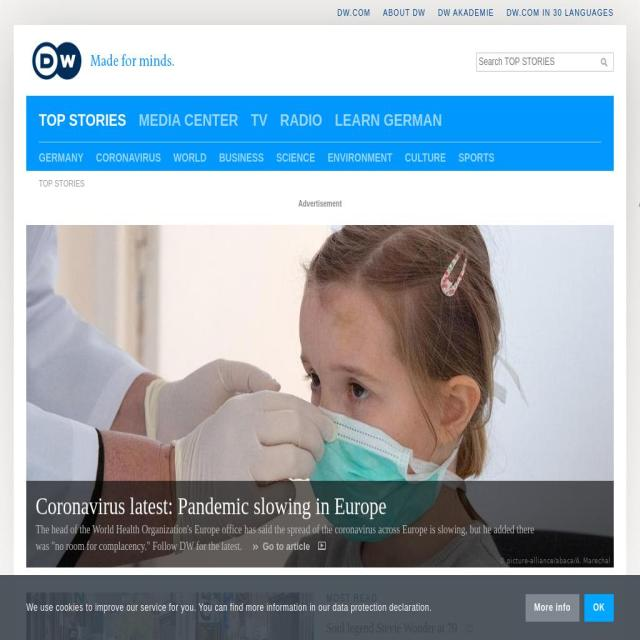button: (36, 493, 604, 555), (27, 25, 202, 96), (328, 104, 449, 142), (133, 104, 245, 142), (33, 104, 133, 142), (95, 142, 173, 172), (327, 142, 405, 172), (273, 104, 329, 142), (39, 142, 96, 172), (219, 142, 276, 172), (404, 142, 459, 172), (525, 593, 579, 622), (276, 142, 328, 172), (458, 142, 508, 172), (173, 142, 219, 172), (244, 104, 274, 142), (584, 593, 614, 622)
field: (476, 52, 614, 72)
heading: (35, 494, 548, 518), (326, 593, 626, 604), (326, 621, 460, 635)
image: (26, 225, 614, 567), (26, 592, 314, 640), (595, 54, 613, 70)
link: (506, 8, 614, 18), (438, 8, 493, 18), (39, 178, 84, 188), (382, 8, 426, 18), (337, 8, 371, 18)
text: (36, 524, 534, 552), (26, 600, 432, 615), (251, 540, 311, 552), (298, 196, 342, 212), (639, 196, 640, 212)
